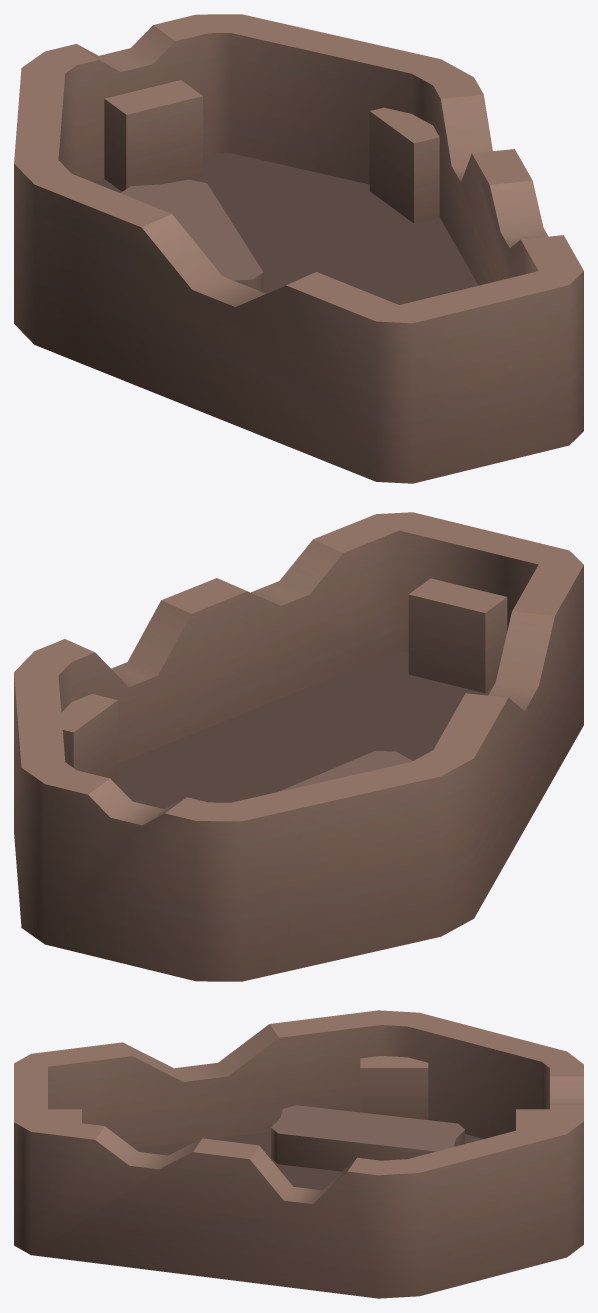
Rendered from coffin-old.glb.
The picture shows the model from 3 angles, top to bottom: view 1: azimuth 30°, elevation 25°; view 2: azimuth 150°, elevation 25°; view 3: azimuth 270°, elevation 25°; orthographic projection. The views are drawn at different scales.
Visible parts, largest first — view 1: coffin-old; view 2: coffin-old; view 3: coffin-old.
Boxes of the visible parts, bbox=[...] form: coffin-old: bbox=[14, 14, 583, 483]; coffin-old: bbox=[14, 512, 583, 981]; coffin-old: bbox=[14, 1010, 583, 1298].
Size of the model in its own units: 1.15 by 0.4 by 1.68.
1 material, 1 textured.
